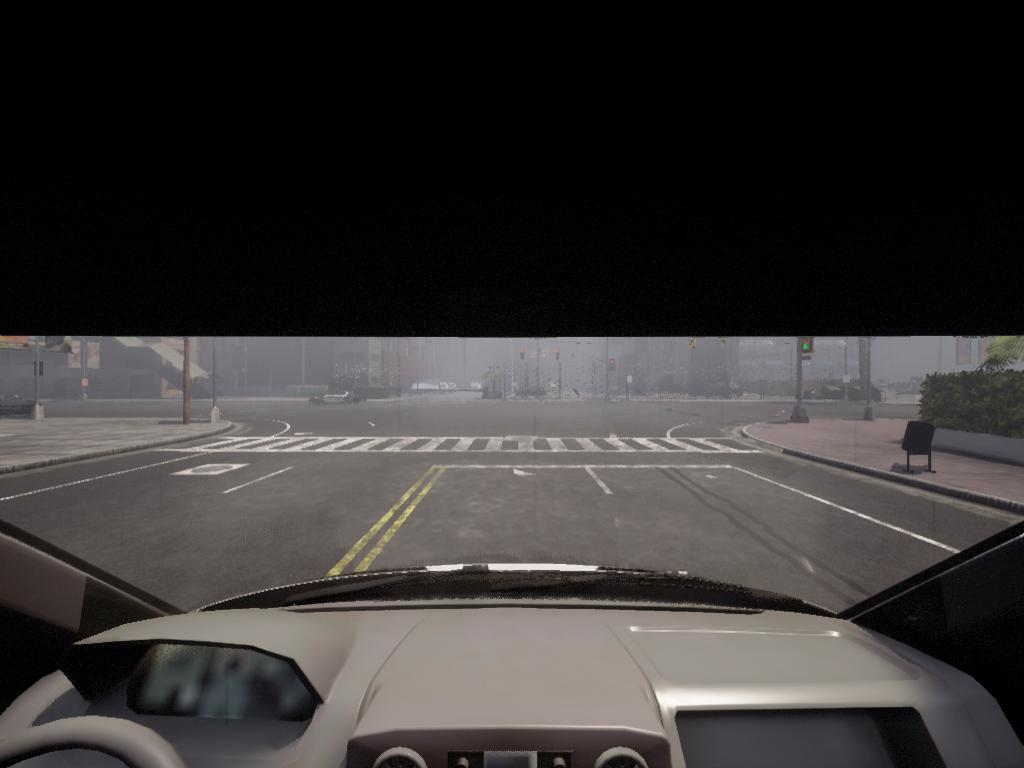traffic_light: (803, 337, 815, 358), (689, 336, 699, 357), (34, 361, 46, 378), (718, 336, 729, 354), (609, 361, 617, 372), (521, 352, 526, 363), (557, 352, 561, 363)
